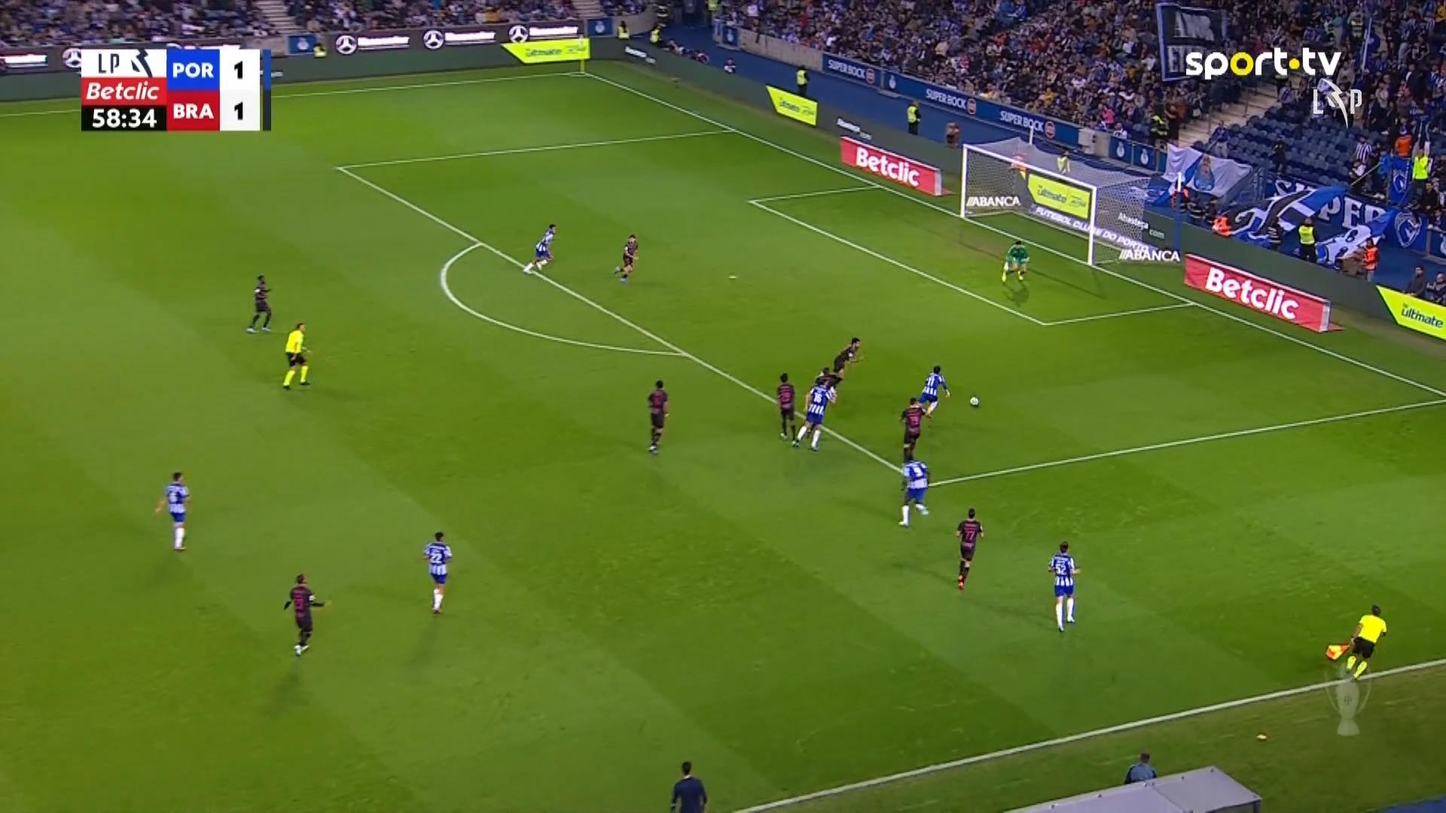ball: (969, 396, 979, 407)
goalkeeper: (1000, 238, 1030, 283)
player: (282, 572, 331, 656), (790, 375, 835, 451), (1047, 540, 1081, 633), (154, 470, 191, 551), (822, 336, 862, 403), (898, 448, 930, 527), (423, 531, 452, 614), (955, 507, 984, 589), (899, 396, 931, 457), (645, 379, 670, 454), (522, 222, 557, 274), (917, 364, 950, 418), (246, 274, 273, 333), (776, 372, 796, 440), (614, 233, 639, 283)
referee: (1326, 603, 1387, 681), (281, 321, 311, 389), (668, 760, 707, 811)
